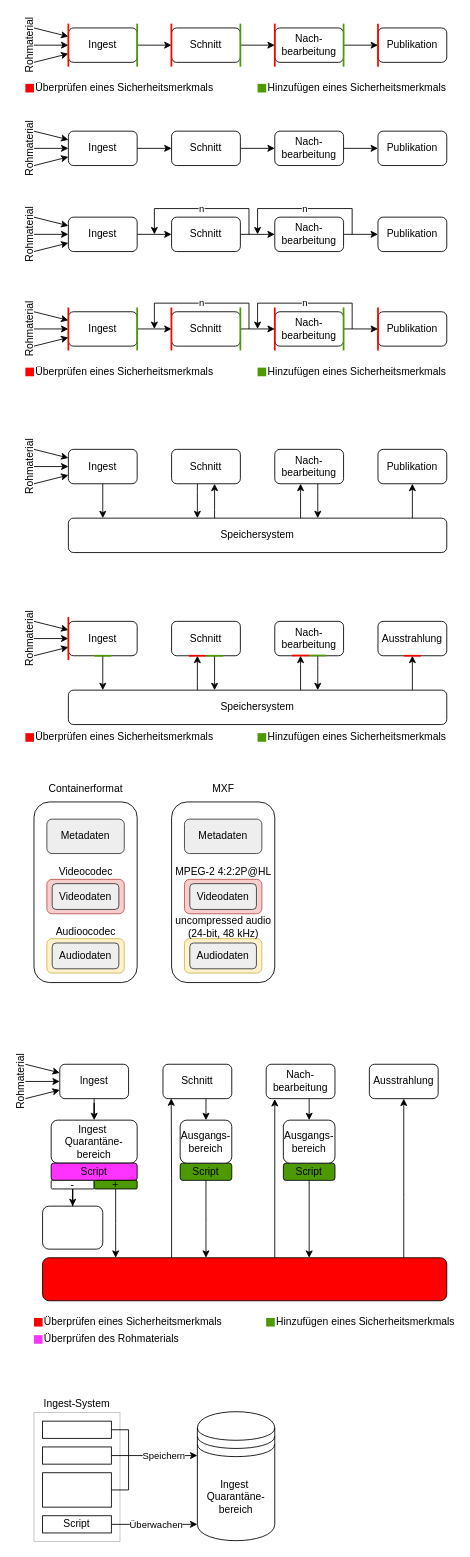
Some shapes in this 470 by 1557 pixel diagram are drawn without their labels. The centre of each missing label's shape, as x and y in pixels:
"Aufzeichnung" belongs at point 76,1429.
"Direkte Speicherung" belongs at point 76,1489.
"Sicherer Bereich" belongs at point 244,1279.
"Transcoding" belongs at point 76,1455.
"Unsicherer Bereich" belongs at point 72,1227.
